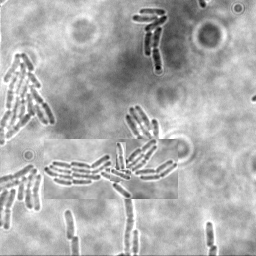Dividing: (114, 200, 133, 255), (204, 221, 215, 248), (116, 142, 126, 170)
Microcolony: (44, 139, 178, 199), (1, 51, 56, 147), (1, 162, 44, 231), (130, 8, 167, 72), (124, 106, 160, 139), (63, 208, 74, 240)
Rod: (110, 168, 131, 181)
